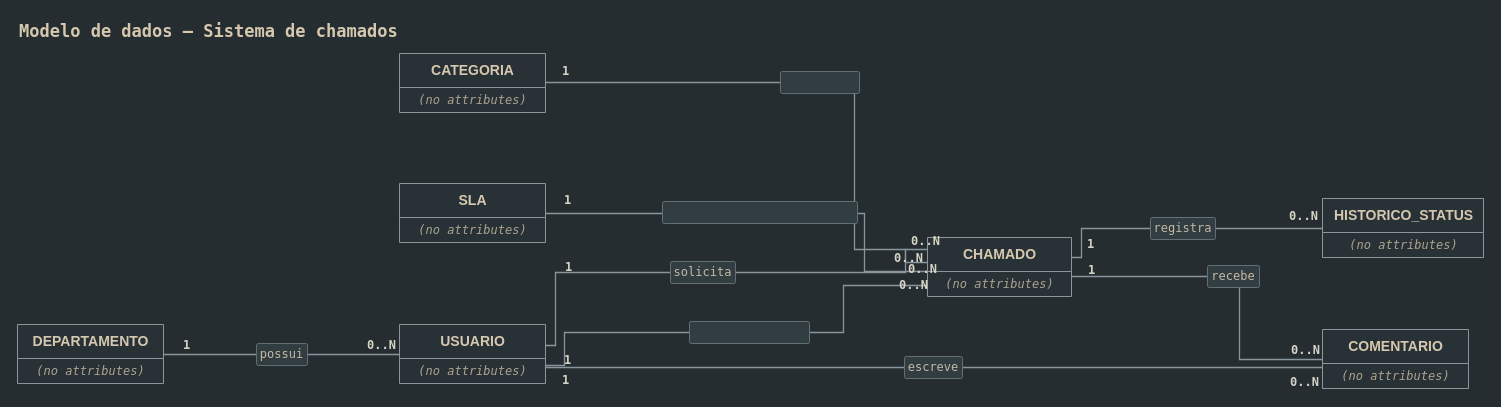
Image size: 1501x407. Some labels were removed from this diagram. The shapes that lost their labels are listed below. From the top down, each one's centre as x and y in pixels, then its label:
At (820,82): "classifica".
At (760,212): "define prazo por prioridade".
At (749,332): "atende (técnico)".
